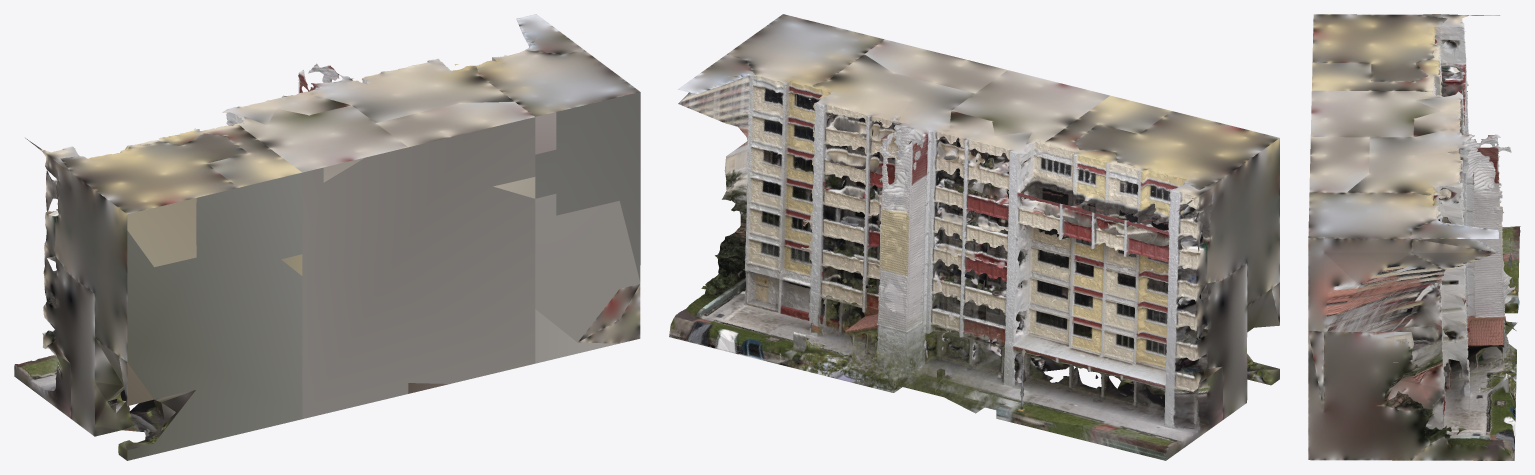
File: front.glb
3 views of the same model, side by side, from view 1: azimuth 30°, elevation 25°; view 2: azimuth 150°, elevation 25°; view 3: azimuth 270°, elevation 25° (orthographic). The views are drawn at different scales.
Bounding box in the file's own units: 79.83 × 36.82 × 31.69.
1 material, 1 textured.
